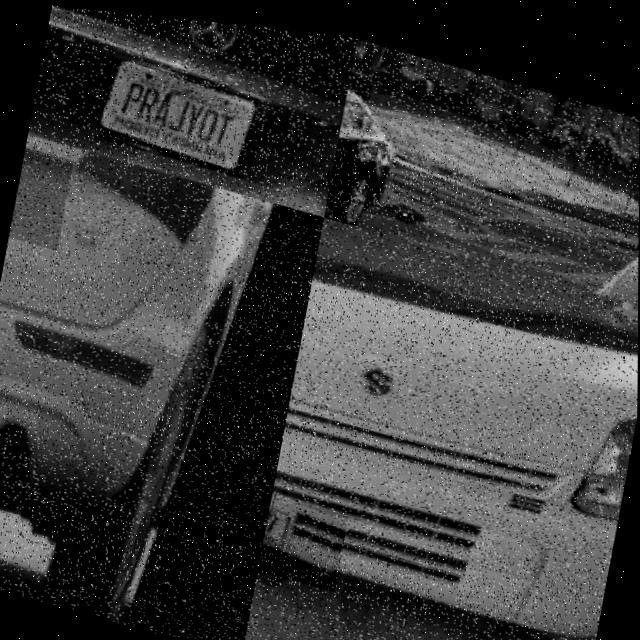LicensePlate: (100, 59, 256, 171), (255, 487, 349, 586), (9, 145, 73, 251)
